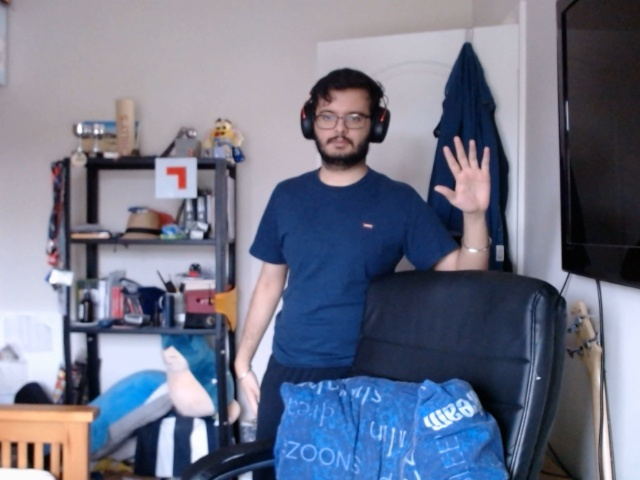Hello: (432, 132, 502, 220)
